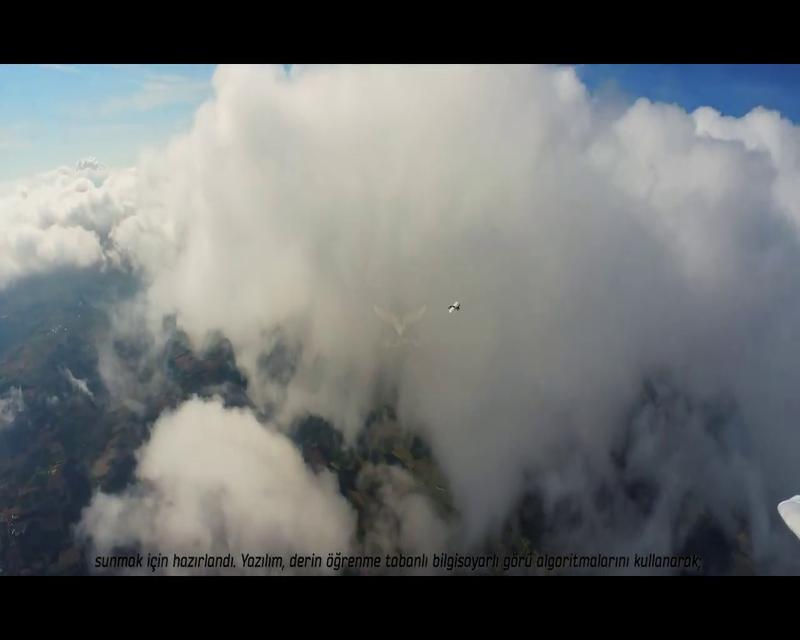UAV: (447, 301, 461, 314)
